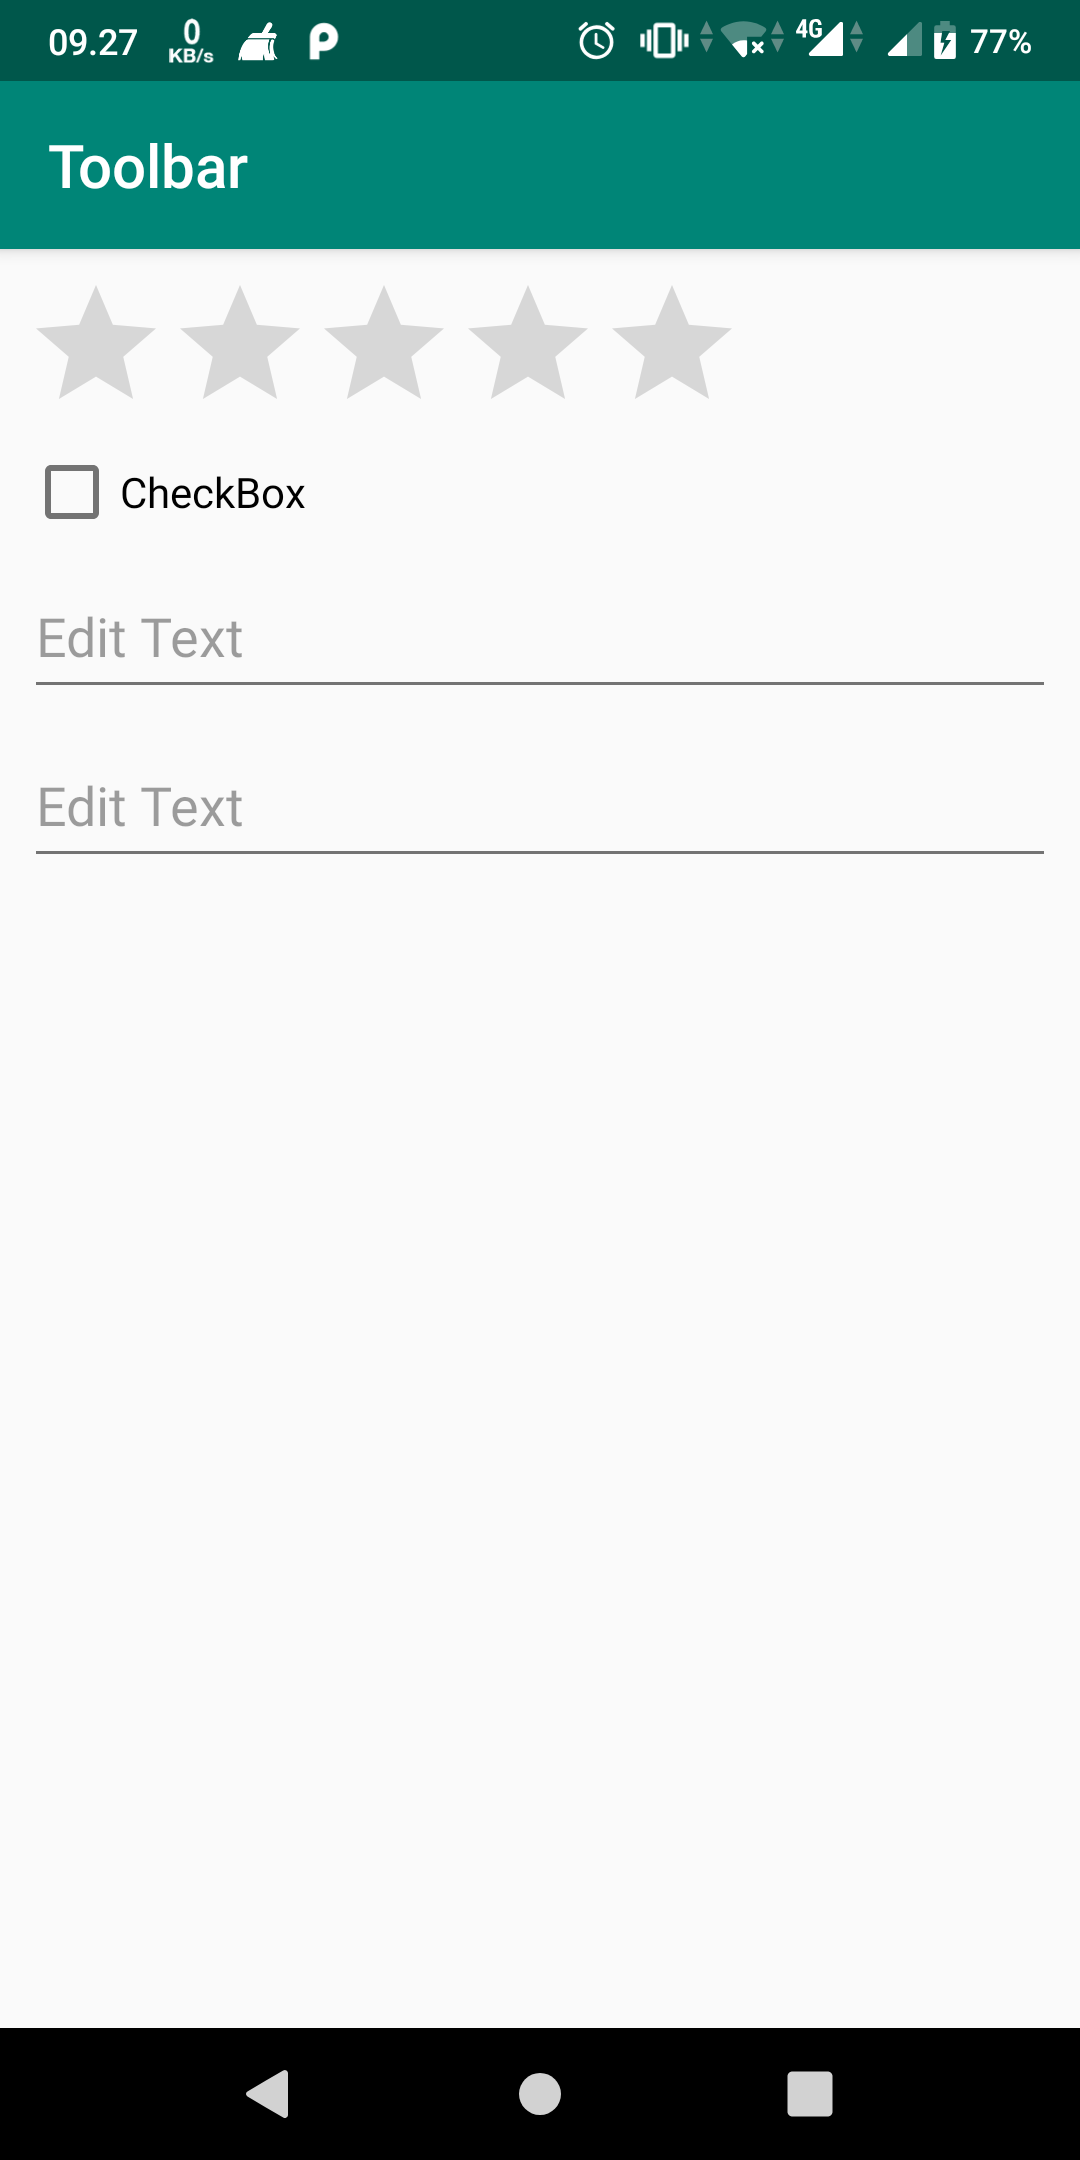checkBox: (32, 450, 320, 528)
editText: (28, 599, 1061, 707), (25, 765, 1061, 866)
ratingBar: (25, 280, 748, 415)
toolbar: (3, 80, 1080, 244)
